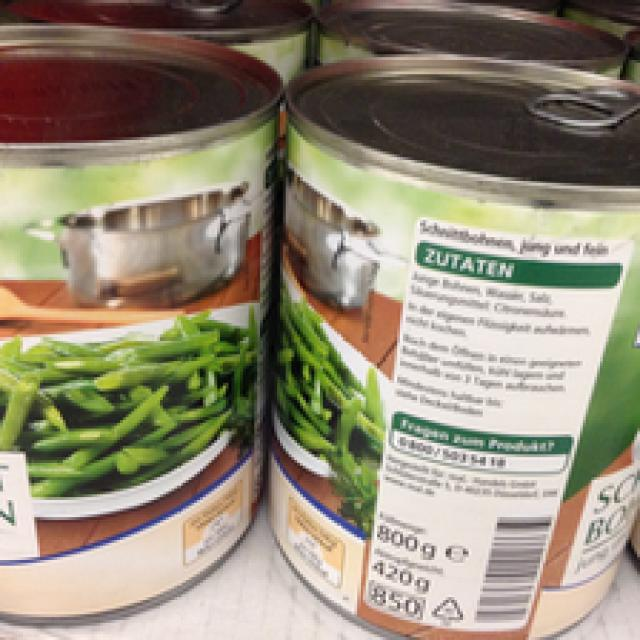groceries: (274, 54, 634, 637), (0, 29, 277, 632)
